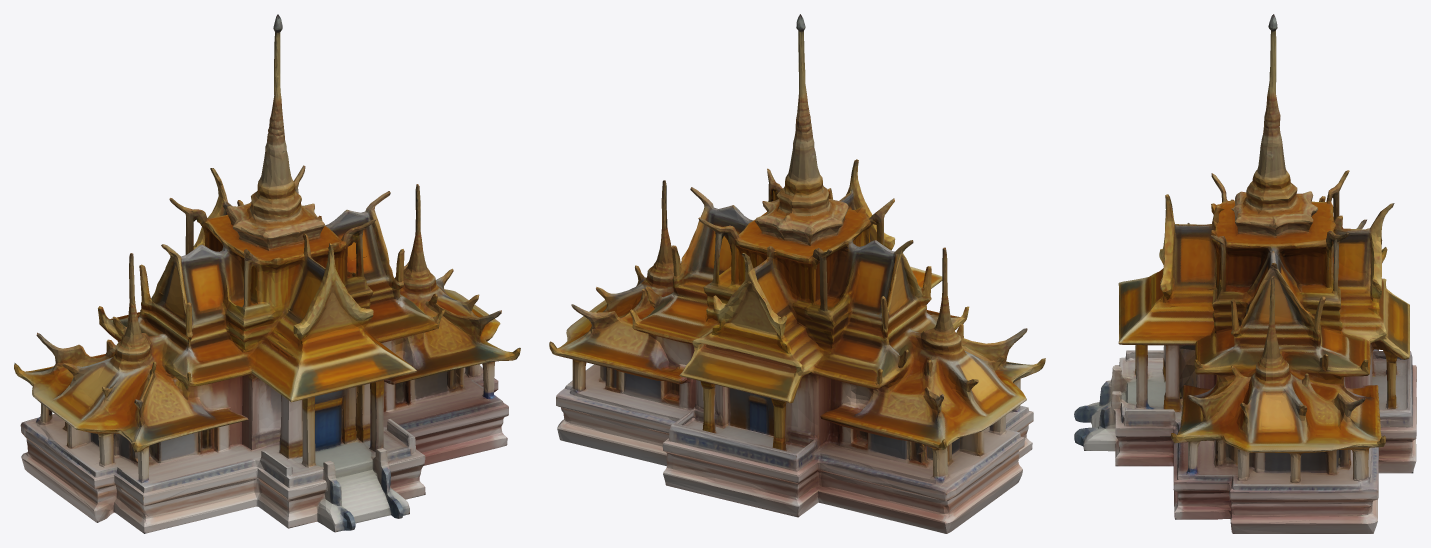
Rendered from thai-grand-palace-golden-temple.glb.
The picture shows the model from 3 angles, left to right: view 1: azimuth 30°, elevation 25°; view 2: azimuth 150°, elevation 25°; view 3: azimuth 270°, elevation 25°; orthographic projection. The views are drawn at different scales.
Visible parts, largest first — view 1: world; view 2: world; view 3: world.
Boxes of the visible parts, <box> form: world: <box>14,14,520,533</box>; world: <box>549,14,1045,533</box>; world: <box>1074,14,1416,533</box>.
Size of the model in its own units: 0.9982 by 0.994 by 0.7194.
1 material, 1 textured.
